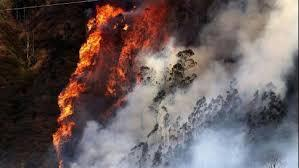fire: (48, 2, 159, 144)
yanwu: (141, 1, 299, 166), (74, 101, 166, 167)
